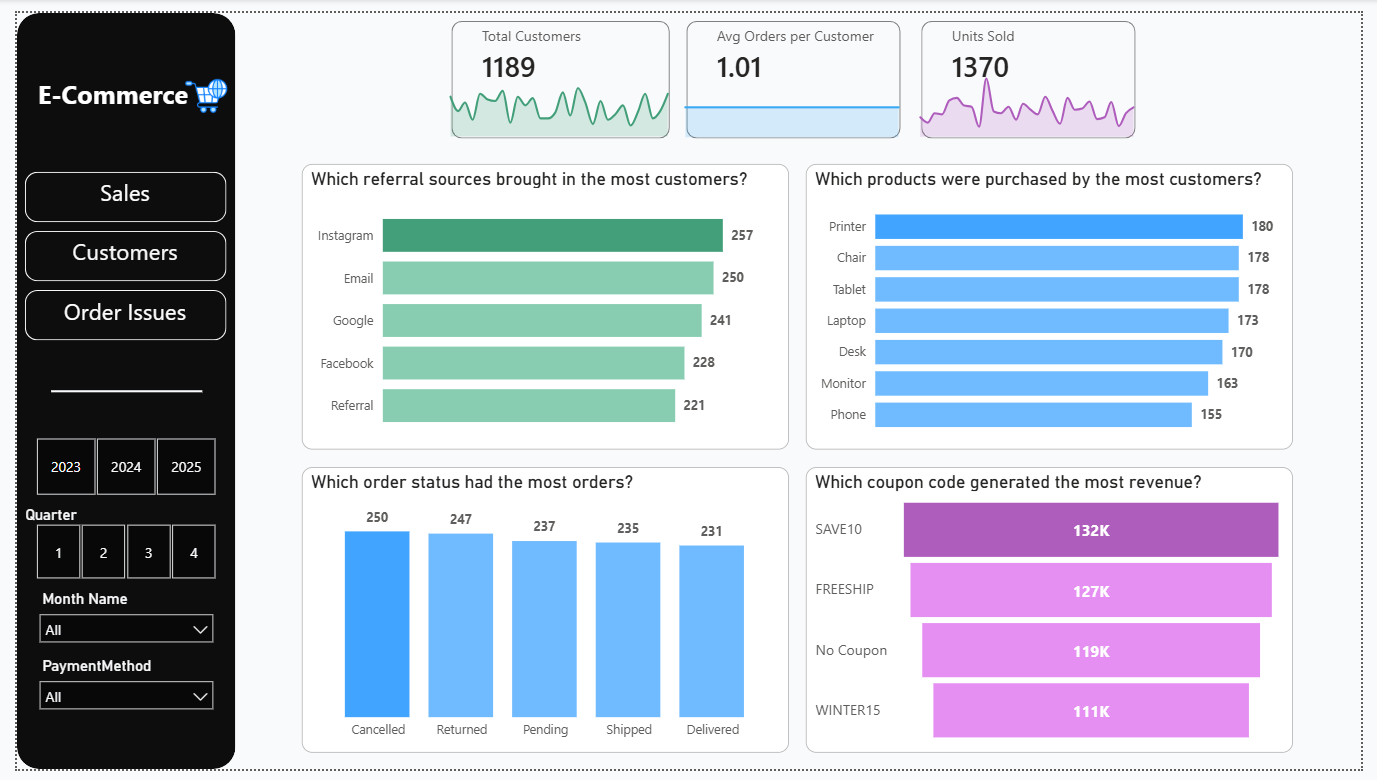

The page's visual inventory and layout, read from the dashboard file:
{"tool":"powerbi","page":{"name":"Customers","canvas":[1280,720],"ordinal":1},"visuals":[{"type":"shape","box":[0,0,208,720],"z":0},{"type":"textbox","box":[7.7,55,168,48],"z":0,"group":"g4"},{"type":"image","box":[159.7,55,40,48],"z":1000,"group":"g4"},{"type":"slicer","fields":{"Values":["Date.Year"]},"box":[0,400,208,64],"z":1000},{"type":"slicer","fields":{"Values":["Date.Month Name"]},"box":[16,544,176,64],"z":2000},{"type":"slicer","fields":{"Values":["Date.Quarter"]},"box":[0,464,208,80],"z":3000},{"type":"slicer","fields":{"Values":["Sales.PaymentMethod"]},"box":[16,608,176,64],"z":4000},{"type":"textbox","box":[16,207.3,176,56],"z":4500,"group":"g2"},{"type":"shape","box":[8,207.3,192,48],"z":5000,"group":"g2"},{"type":"shape","box":[32,336,144,48],"z":5000},{"type":"textbox","box":[16,263.3,176,48],"z":5500,"group":"g3"},{"type":"group","id":"g1","title":"Group 1","box":[8,151.3,192,48],"z":6000},{"type":"shape","box":[8,263.3,192,48],"z":6000,"group":"g3"},{"type":"textbox","box":[16,151.3,176,48],"z":6500,"group":"g1"},{"type":"shape","box":[8,151.3,192,48],"z":7000,"group":"g1"},{"type":"group","id":"g2","title":"Group 2","box":[8,207.3,192,56],"z":7000},{"type":"group","id":"g3","title":"Group 3","box":[8,263.3,192,48],"z":8000},{"type":"group","id":"g4","title":"Group 4","box":[7.7,55,192,48],"z":9000},{"type":"group","id":"g5","title":"Group 5","box":[397.2,0,237,123],"z":10000},{"type":"shape","box":[413.2,8,208,112],"z":10000,"group":"g5"},{"type":"group","id":"g6","title":"Group 6","box":[621.2,0,233,124],"z":11000},{"type":"group","id":"g7","title":"Group 6","box":[845.2,0,232,128],"z":12000},{"type":"shape","box":[637.2,8,204,112],"z":13000,"group":"g6"},{"type":"shape","box":[861.2,8,204,112],"z":13000,"group":"g7"},{"type":"clusteredBarChart","title":"Which referral sources brought in the most customers?","fields":{"Category":["Sales.ReferralSource"],"Y":["Calculated.Total Customers"]},"box":[270.8,144,464,272],"z":13000},{"type":"clusteredBarChart","title":"Which products were purchased by the most customers?","fields":{"Category":["Sales.Product"],"Y":["Calculated.Total Customers"]},"box":[750.8,144,464,272],"z":13001},{"type":"columnChart","title":"Which order status had the most orders?","fields":{"Category":["Sales.OrderStatus"],"Y":["Calculated.Total Orders"]},"box":[270.8,432,464,272],"z":13002},{"type":"funnel","title":"Which coupon code generated the most revenue?","fields":{"Category":["Sales.CouponCode"],"Y":["Calculated.Revenue"]},"box":[750.8,432,464,272],"z":13003},{"type":"cardVisual","fields":{"Data":["Calculated.Avg Orders per Customer"]},"box":[637.2,0,208,80],"z":15000,"group":"g6"},{"type":"cardVisual","fields":{"Data":["Calculated.Units Sold"]},"box":[861.2,0,208,80],"z":15000,"group":"g7"},{"type":"cardVisual","fields":{"Data":["Calculated.Total Customers"]},"box":[413.2,0,200,80],"z":19000,"group":"g5"},{"type":"lineChart","fields":{"Category":["Date.Date.Variation.Date Hierarchy.Year","Date.Date.Variation.Date Hierarchy.Month"],"Y":["Calculated.Total Customers"]},"box":[397.2,48,237,75],"z":20000,"group":"g5"},{"type":"lineChart","fields":{"Category":["Date.Date.Variation.Date Hierarchy.Year","Date.Date.Variation.Date Hierarchy.Month"],"Y":["Calculated.Avg Orders per Customer"]},"box":[621.2,48,233,76],"z":21000,"group":"g6"},{"type":"lineChart","fields":{"Category":["Date.Date.Variation.Date Hierarchy.Year","Date.Date.Variation.Date Hierarchy.Month"],"Y":["Calculated.Units Sold"]},"box":[845.2,48,233,76],"z":21000,"group":"g7"}]}

Visuals, with their boxes in screenshot pixels (x1, y1, x2, y2), scaled from the page's 1280x720 canvas onto the 1377x780 screenshot:
shape: {"x1": 0, "y1": 0, "x2": 224, "y2": 779}
textbox: {"x1": 8, "y1": 60, "x2": 189, "y2": 112}
image: {"x1": 172, "y1": 60, "x2": 215, "y2": 112}
slicer - Date.Year: {"x1": 0, "y1": 433, "x2": 224, "y2": 503}
slicer - Date.Month Name: {"x1": 17, "y1": 589, "x2": 207, "y2": 659}
slicer - Date.Quarter: {"x1": 0, "y1": 503, "x2": 224, "y2": 589}
slicer - Sales.PaymentMethod: {"x1": 17, "y1": 659, "x2": 207, "y2": 728}
textbox: {"x1": 17, "y1": 225, "x2": 207, "y2": 285}
shape: {"x1": 9, "y1": 225, "x2": 215, "y2": 277}
shape: {"x1": 34, "y1": 364, "x2": 189, "y2": 416}
textbox: {"x1": 17, "y1": 285, "x2": 207, "y2": 337}
"Group 1" group: {"x1": 9, "y1": 164, "x2": 215, "y2": 216}
shape: {"x1": 9, "y1": 285, "x2": 215, "y2": 337}
textbox: {"x1": 17, "y1": 164, "x2": 207, "y2": 216}
shape: {"x1": 9, "y1": 164, "x2": 215, "y2": 216}
"Group 2" group: {"x1": 9, "y1": 225, "x2": 215, "y2": 285}
"Group 3" group: {"x1": 9, "y1": 285, "x2": 215, "y2": 337}
"Group 4" group: {"x1": 8, "y1": 60, "x2": 215, "y2": 112}
"Group 5" group: {"x1": 427, "y1": 0, "x2": 682, "y2": 133}
shape: {"x1": 445, "y1": 9, "x2": 668, "y2": 130}
"Group 6" group: {"x1": 668, "y1": 0, "x2": 919, "y2": 134}
"Group 6" group: {"x1": 909, "y1": 0, "x2": 1159, "y2": 139}
shape: {"x1": 685, "y1": 9, "x2": 905, "y2": 130}
shape: {"x1": 926, "y1": 9, "x2": 1146, "y2": 130}
"Which referral sources brought in the most customers?" clusteredBarChart: {"x1": 291, "y1": 156, "x2": 790, "y2": 451}
"Which products were purchased by the most customers?" clusteredBarChart: {"x1": 808, "y1": 156, "x2": 1307, "y2": 451}
"Which order status had the most orders?" columnChart: {"x1": 291, "y1": 468, "x2": 790, "y2": 763}
"Which coupon code generated the most revenue?" funnel: {"x1": 808, "y1": 468, "x2": 1307, "y2": 763}
cardVisual - Calculated.Avg Orders per Customer: {"x1": 685, "y1": 0, "x2": 909, "y2": 87}
cardVisual - Calculated.Units Sold: {"x1": 926, "y1": 0, "x2": 1150, "y2": 87}
cardVisual - Calculated.Total Customers: {"x1": 445, "y1": 0, "x2": 660, "y2": 87}
lineChart - Date.Date.Variation.Date Hierarchy.Year x Date.Date.Variation.Date Hierarchy.Month: {"x1": 427, "y1": 52, "x2": 682, "y2": 133}
lineChart - Date.Date.Variation.Date Hierarchy.Year x Date.Date.Variation.Date Hierarchy.Month: {"x1": 668, "y1": 52, "x2": 919, "y2": 134}
lineChart - Date.Date.Variation.Date Hierarchy.Year x Date.Date.Variation.Date Hierarchy.Month: {"x1": 909, "y1": 52, "x2": 1160, "y2": 134}
